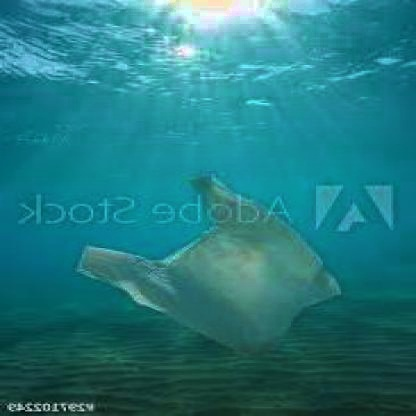pbag: (73, 174, 343, 357)
